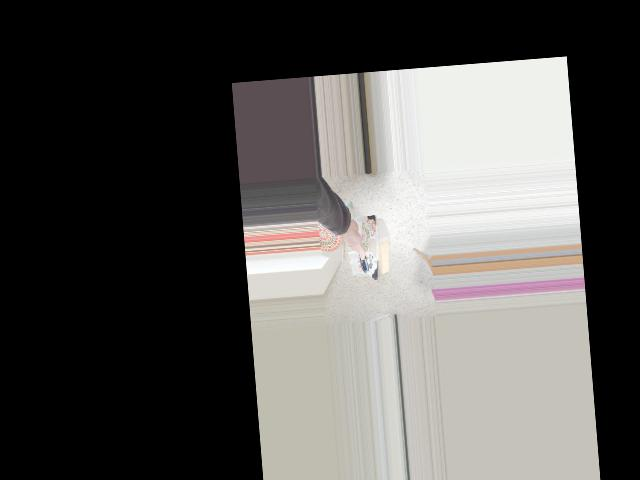cheese: (339, 204, 409, 284)
